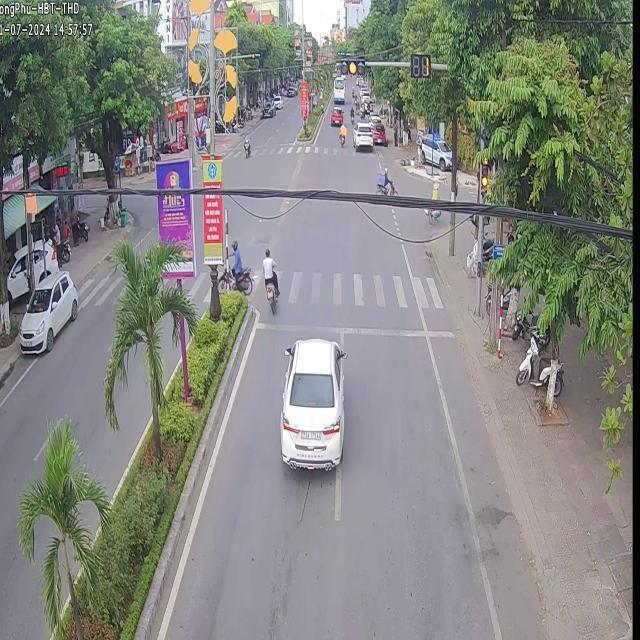car: (279, 338, 344, 468), (18, 269, 77, 351), (352, 120, 372, 148)
motobike: (260, 247, 277, 311), (217, 262, 250, 294)
stop_line: (254, 317, 452, 338)
yellow_light: (410, 55, 429, 77), (340, 60, 364, 73), (479, 152, 487, 191)
